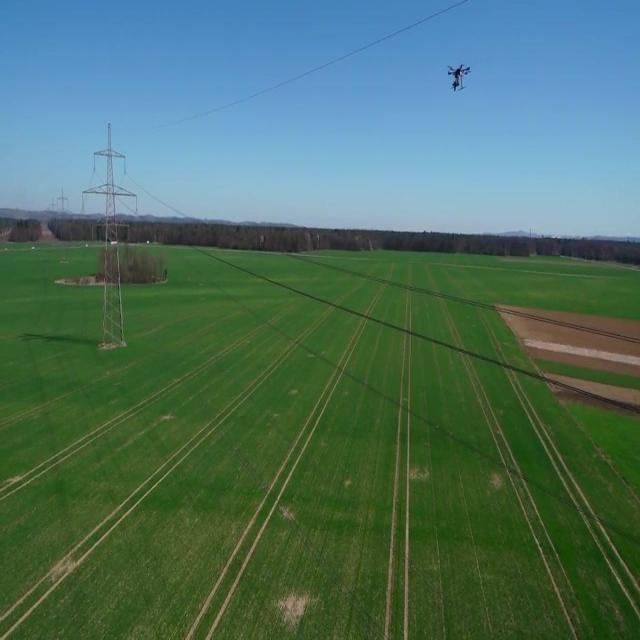drone: (445, 57, 473, 95)
